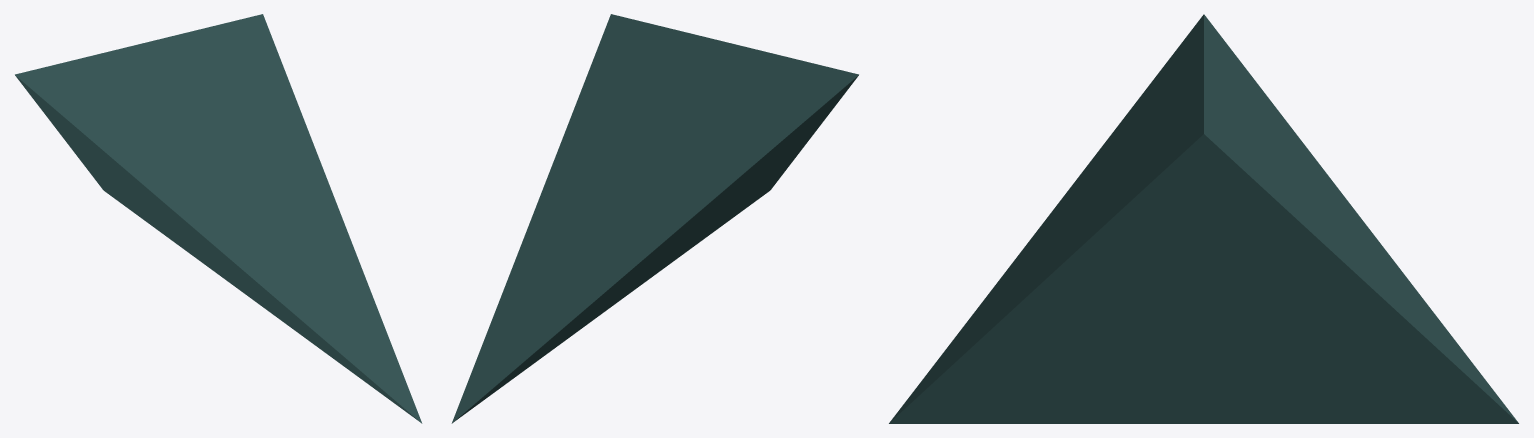
File: Prop_Gothic_Building_Roof_Top_Triangle_Joiner_Intersect_01.FBX
3 views of the same model, side by side, from view 1: azimuth 30°, elevation 25°; view 2: azimuth 150°, elevation 25°; view 3: azimuth 270°, elevation 25° (orthographic).
Parts seen in each view (by area): view 1: Prop_Gothic_Building_Roof_Top_Triangle_Joiner_Intersect_01; view 2: Prop_Gothic_Building_Roof_Top_Triangle_Joiner_Intersect_01; view 3: Prop_Gothic_Building_Roof_Top_Triangle_Joiner_Intersect_01.
Boxes of the visible parts, box(x1,y1,x2,y2) form: Prop_Gothic_Building_Roof_Top_Triangle_Joiner_Intersect_01: box(15, 14, 422, 423); Prop_Gothic_Building_Roof_Top_Triangle_Joiner_Intersect_01: box(451, 14, 858, 423); Prop_Gothic_Building_Roof_Top_Triangle_Joiner_Intersect_01: box(889, 14, 1518, 423).
Bounding box in the file's own units: 4390 × 4950 × 9760.
